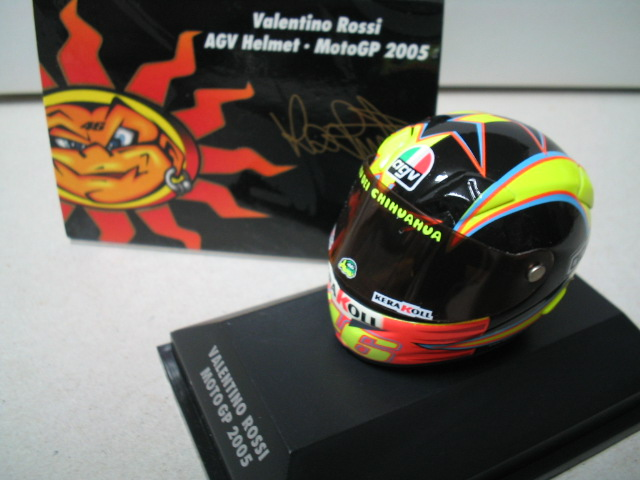helmet: (337, 116, 589, 355)
